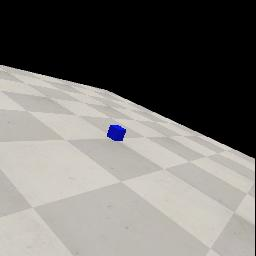box: (107, 125, 126, 141)
